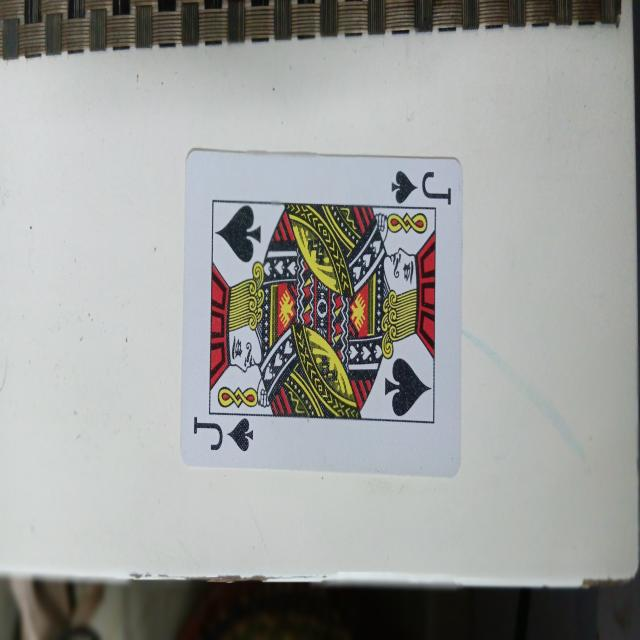JS: (180, 136, 463, 476)
